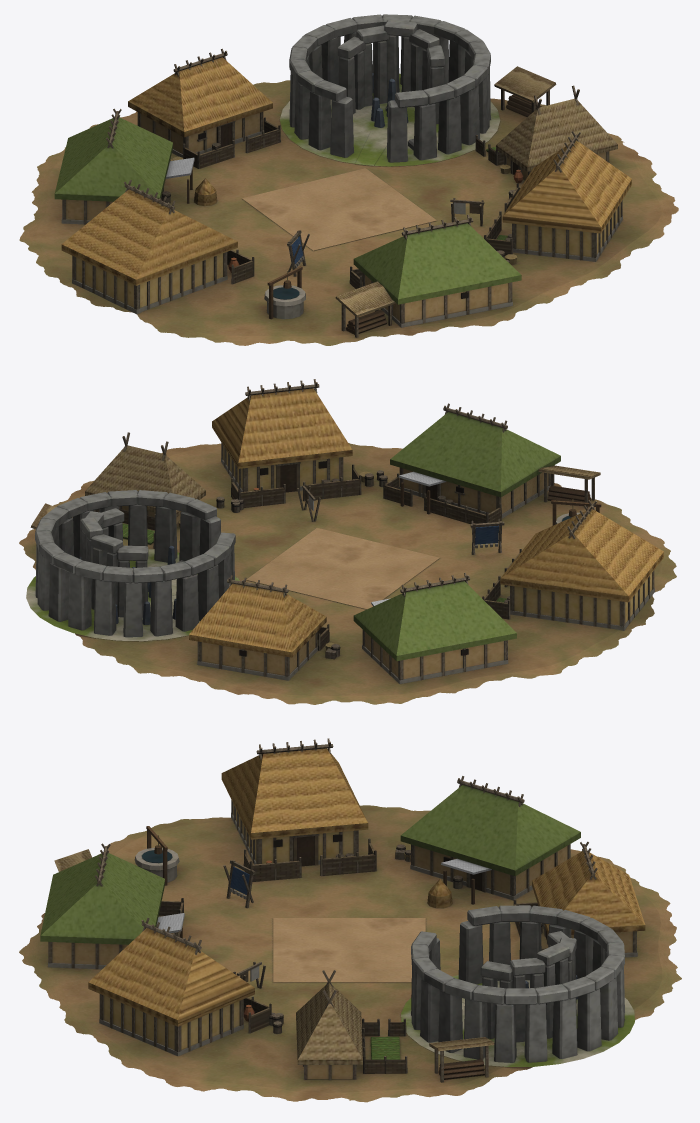
File: bronze-town-small-a-europe.glb
3 views of the same model, one above another, from view 1: azimuth 30°, elevation 25°; view 2: azimuth 150°, elevation 25°; view 3: azimuth 270°, elevation 25° (orthographic). The views are drawn at different scales.
Parts seen in each view (by area): view 1: LOD0; view 2: LOD0; view 3: LOD0.
Part boxes in pixels (x1=…): LOD0: x1=19, y1=14, x2=678, y2=345; LOD0: x1=19, y1=379, x2=676, y2=704; LOD0: x1=19, y1=738, x2=681, y2=1102.
Size of what is drawn, in the model's own units: 3.98 by 0.6129 by 3.71.
3 materials, 3 textured.
